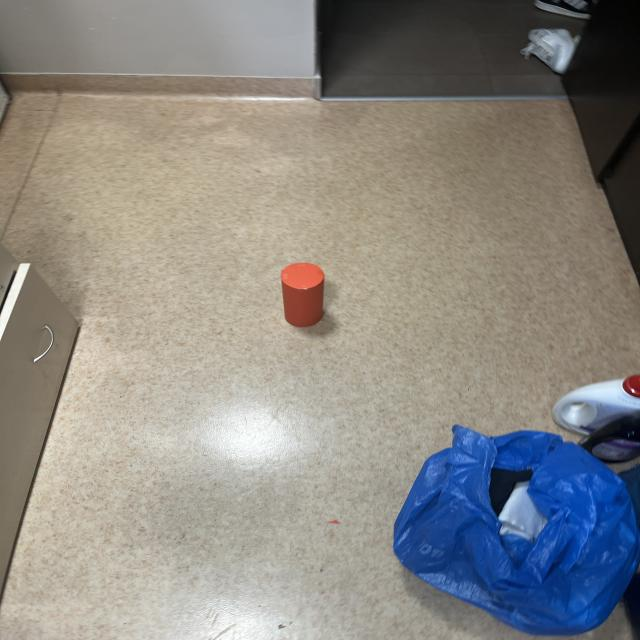przeszkoda: (281, 263, 324, 327)
